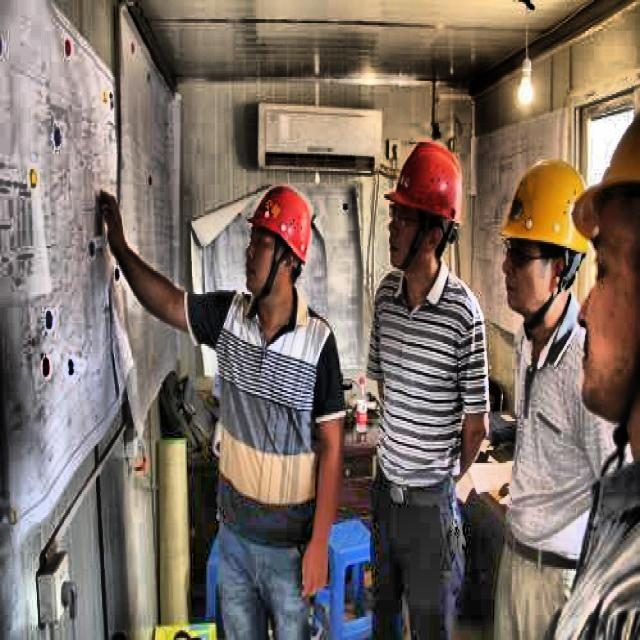helmet: (576, 104, 639, 436), (498, 148, 591, 336), (388, 136, 468, 282), (244, 181, 318, 294)
